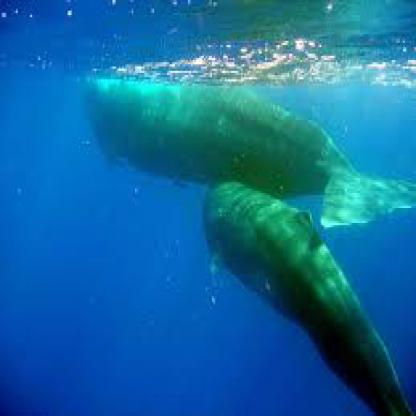sperm_whale: (79, 54, 414, 225), (198, 174, 414, 414)
